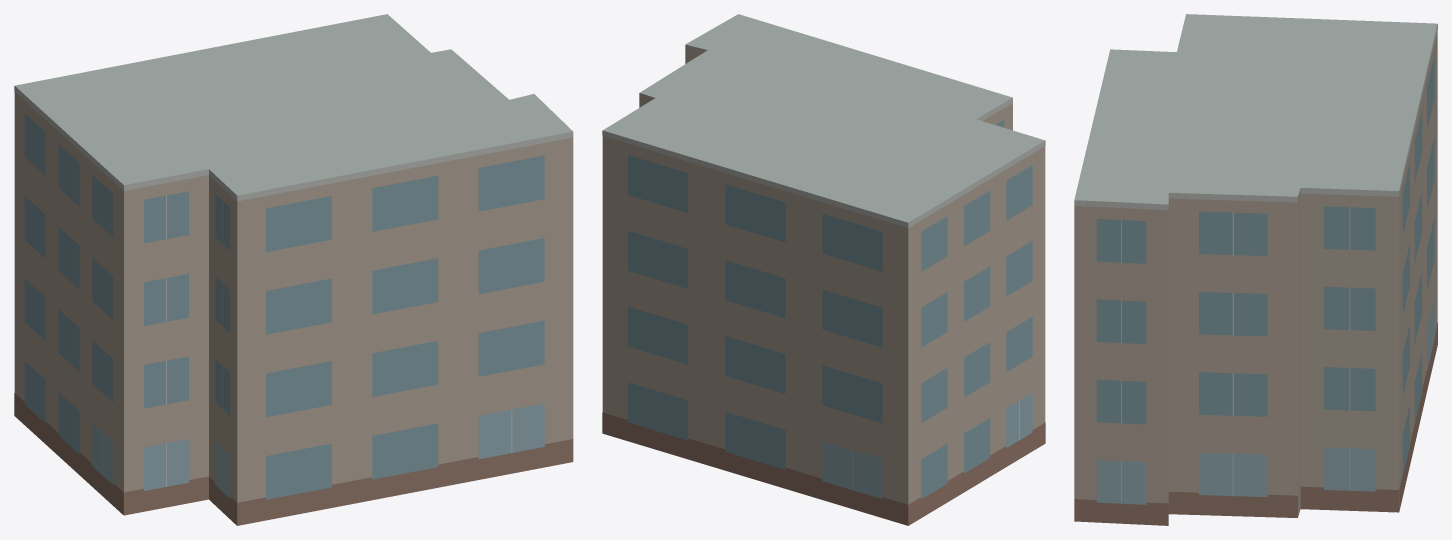
The model's file is survey-upis-32500574.glb.
3 renders of one model, left to right at view 1: azimuth 30°, elevation 25°; view 2: azimuth 150°, elevation 25°; view 3: azimuth 270°, elevation 25°, orthographic. The views are drawn at different scales.
Parts seen in each view (by area): view 1: survey-upis-32500574.tmp; view 2: survey-upis-32500574.tmp; view 3: survey-upis-32500574.tmp.
Boxes of the visible parts, box(x1,y1,x2,y2) form: survey-upis-32500574.tmp: box(14, 14, 573, 525); survey-upis-32500574.tmp: box(602, 14, 1045, 525); survey-upis-32500574.tmp: box(1074, 14, 1437, 525).
Size of the model in its own units: 17.44 by 13.7 by 14.06.
